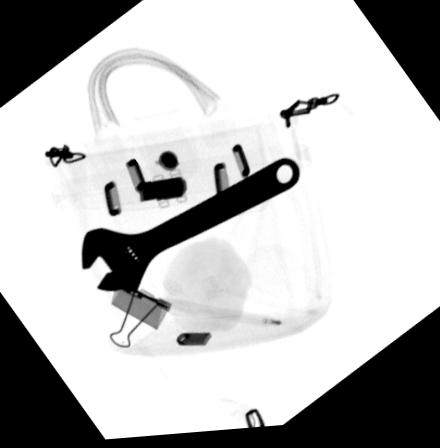Wrench: (79, 160, 301, 298)
